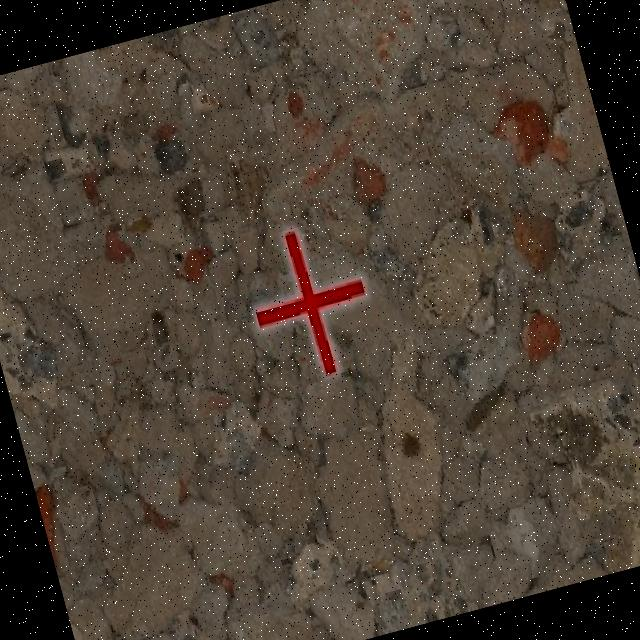x_marker: (237, 216, 381, 386)
